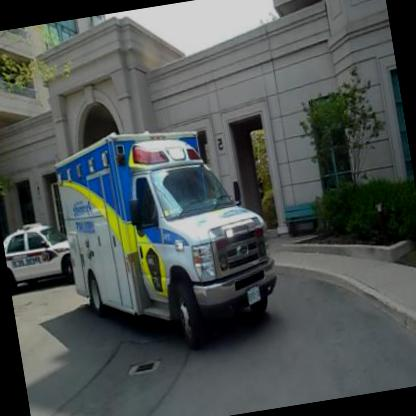truck: (47, 108, 288, 353)
